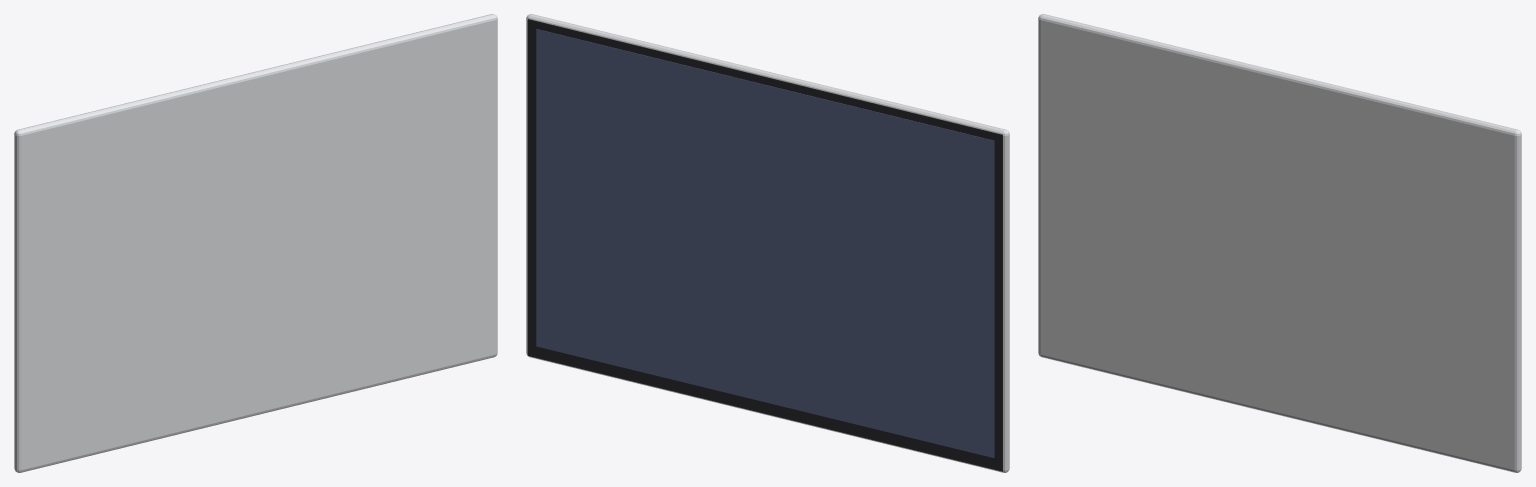
File: laptop_lid.glb
3 views of the same model, side by side, from view 1: azimuth 30°, elevation 25°; view 2: azimuth 150°, elevation 25°; view 3: azimuth 330°, elevation 25° (orthographic).
Parts seen in each view (by area): view 1: lid; view 2: display, bezel, lid; view 3: lid.
Boxes of the visible parts, box(x1,y1,x2,y2) form: lid: box(14, 14, 497, 472); display: box(536, 29, 994, 457); bezel: box(528, 19, 1002, 471); lid: box(526, 14, 1009, 472); lid: box(1038, 14, 1521, 472).
Size of the model in its own units: 0.4284 by 0.291 by 0.00814.
